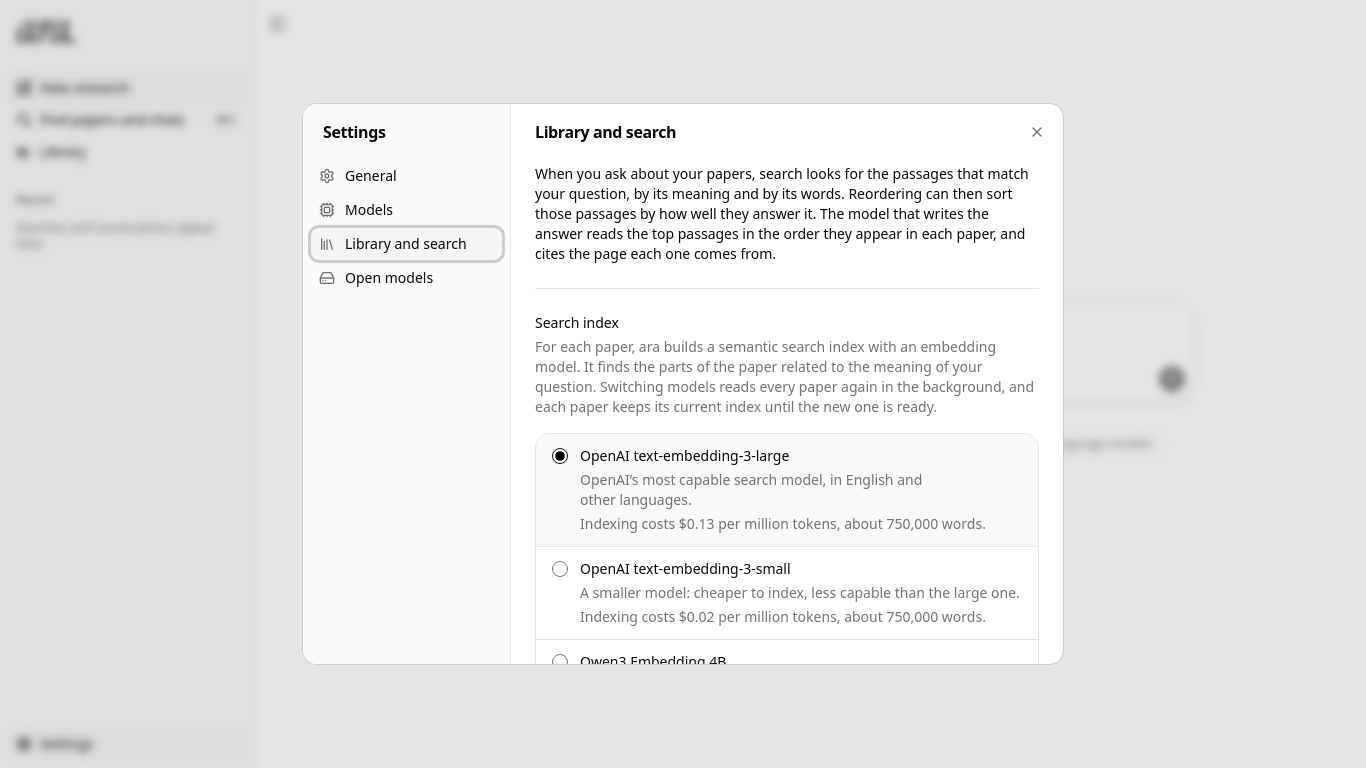
it: Given a new search index model, When it is chosen, Then a dialog says what rebuilding means and nothing is sent until confirmed
// Saving the search index model must not overwrite the stored reranker choice.
Step 1. Click the radio button labelled "OpenAI text-embedding-3-small" → coordinates (560, 569), box [552,561,568,577]
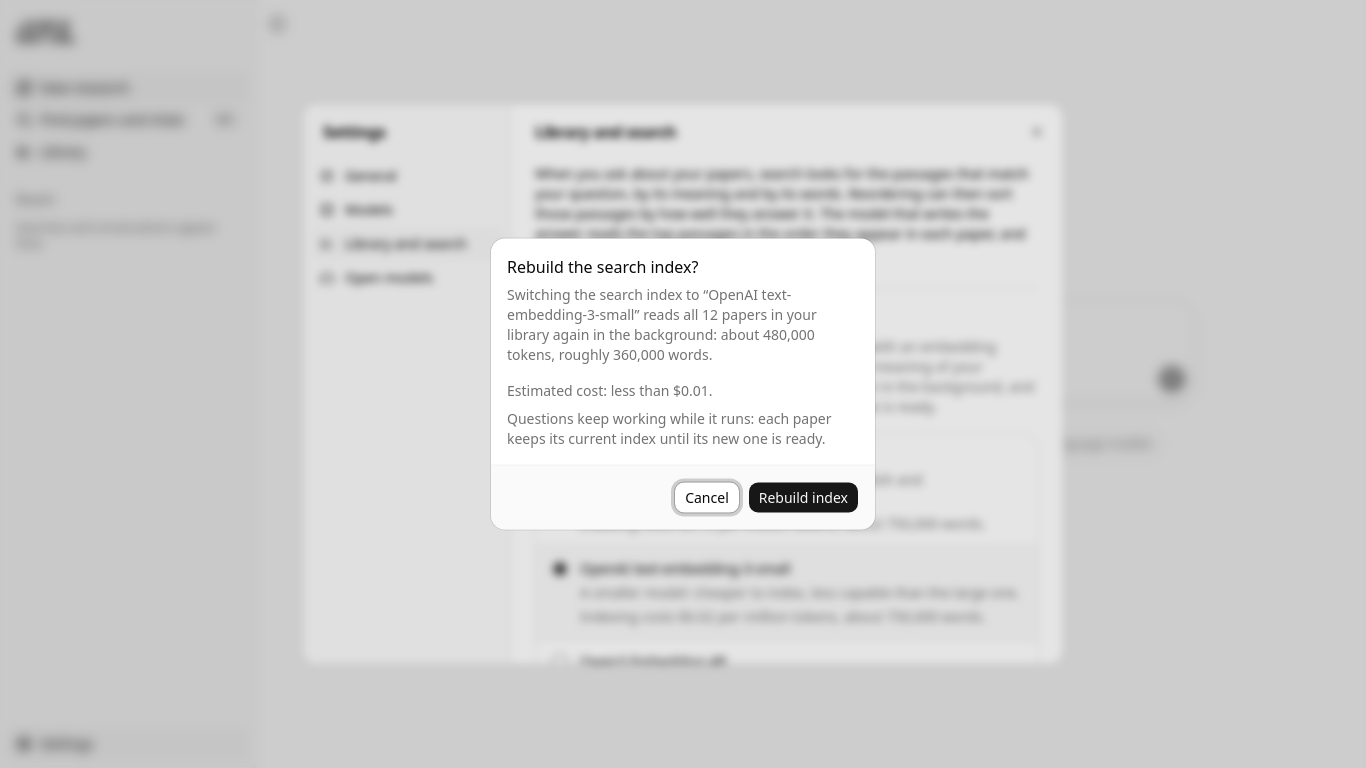
Expected: the text "Switching the search index to “OpenAI text-embedding-3-small” reads all 12 papers in your library again in the backgroun" is shown, [507,284,817,364]
Expected: the text "Estimated cost: less than $0.01." is shown, [507,380,713,400]
Expected: the text "Questions keep working while it runs: each paper keeps its current index until its new one is ready." is shown, [507,408,832,448]
Step 2. Click the button "Rebuild index" → coordinates (803, 498), box [748,482,859,514]
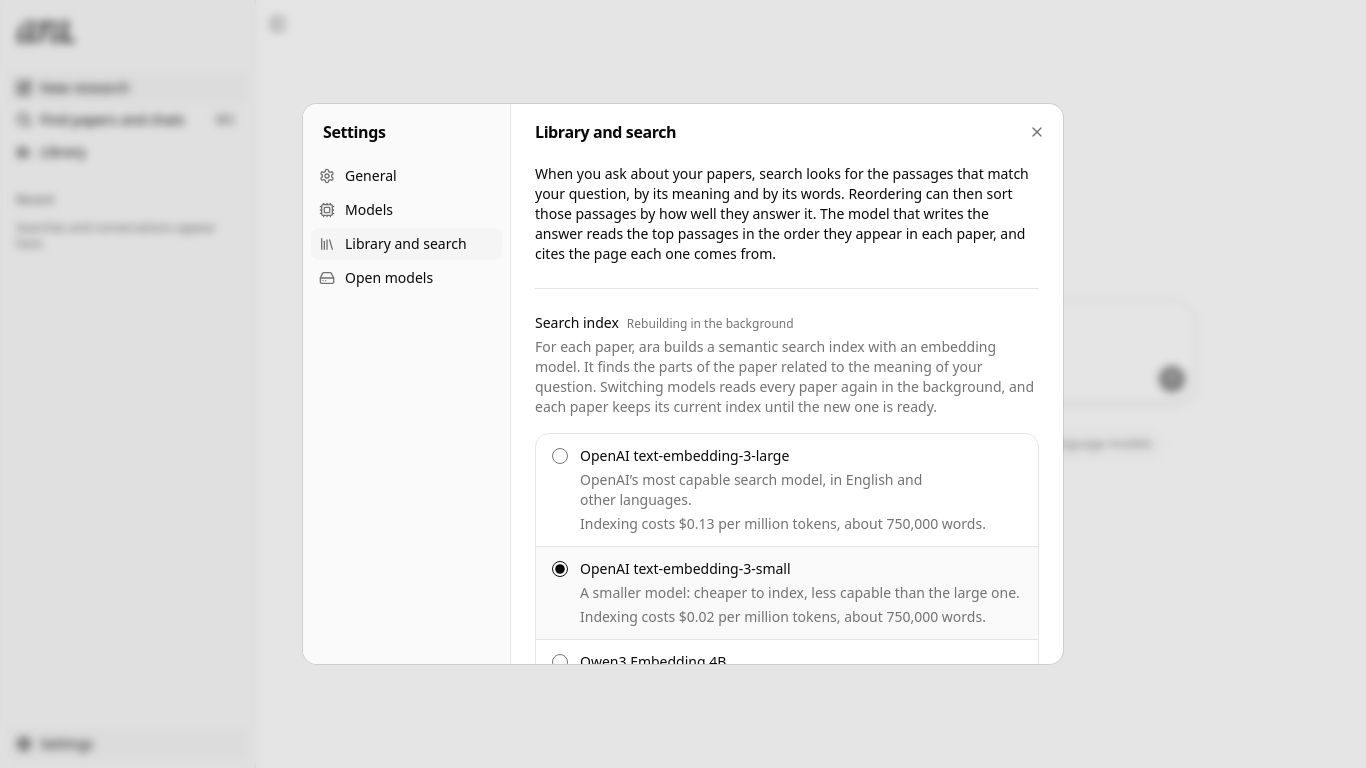
Expected: the radio button labelled "OpenAI text-embedding-3-small" is checked, [552,561,568,577]
Expected: the text "Rebuilding in the background" is shown, [627,316,794,332]
